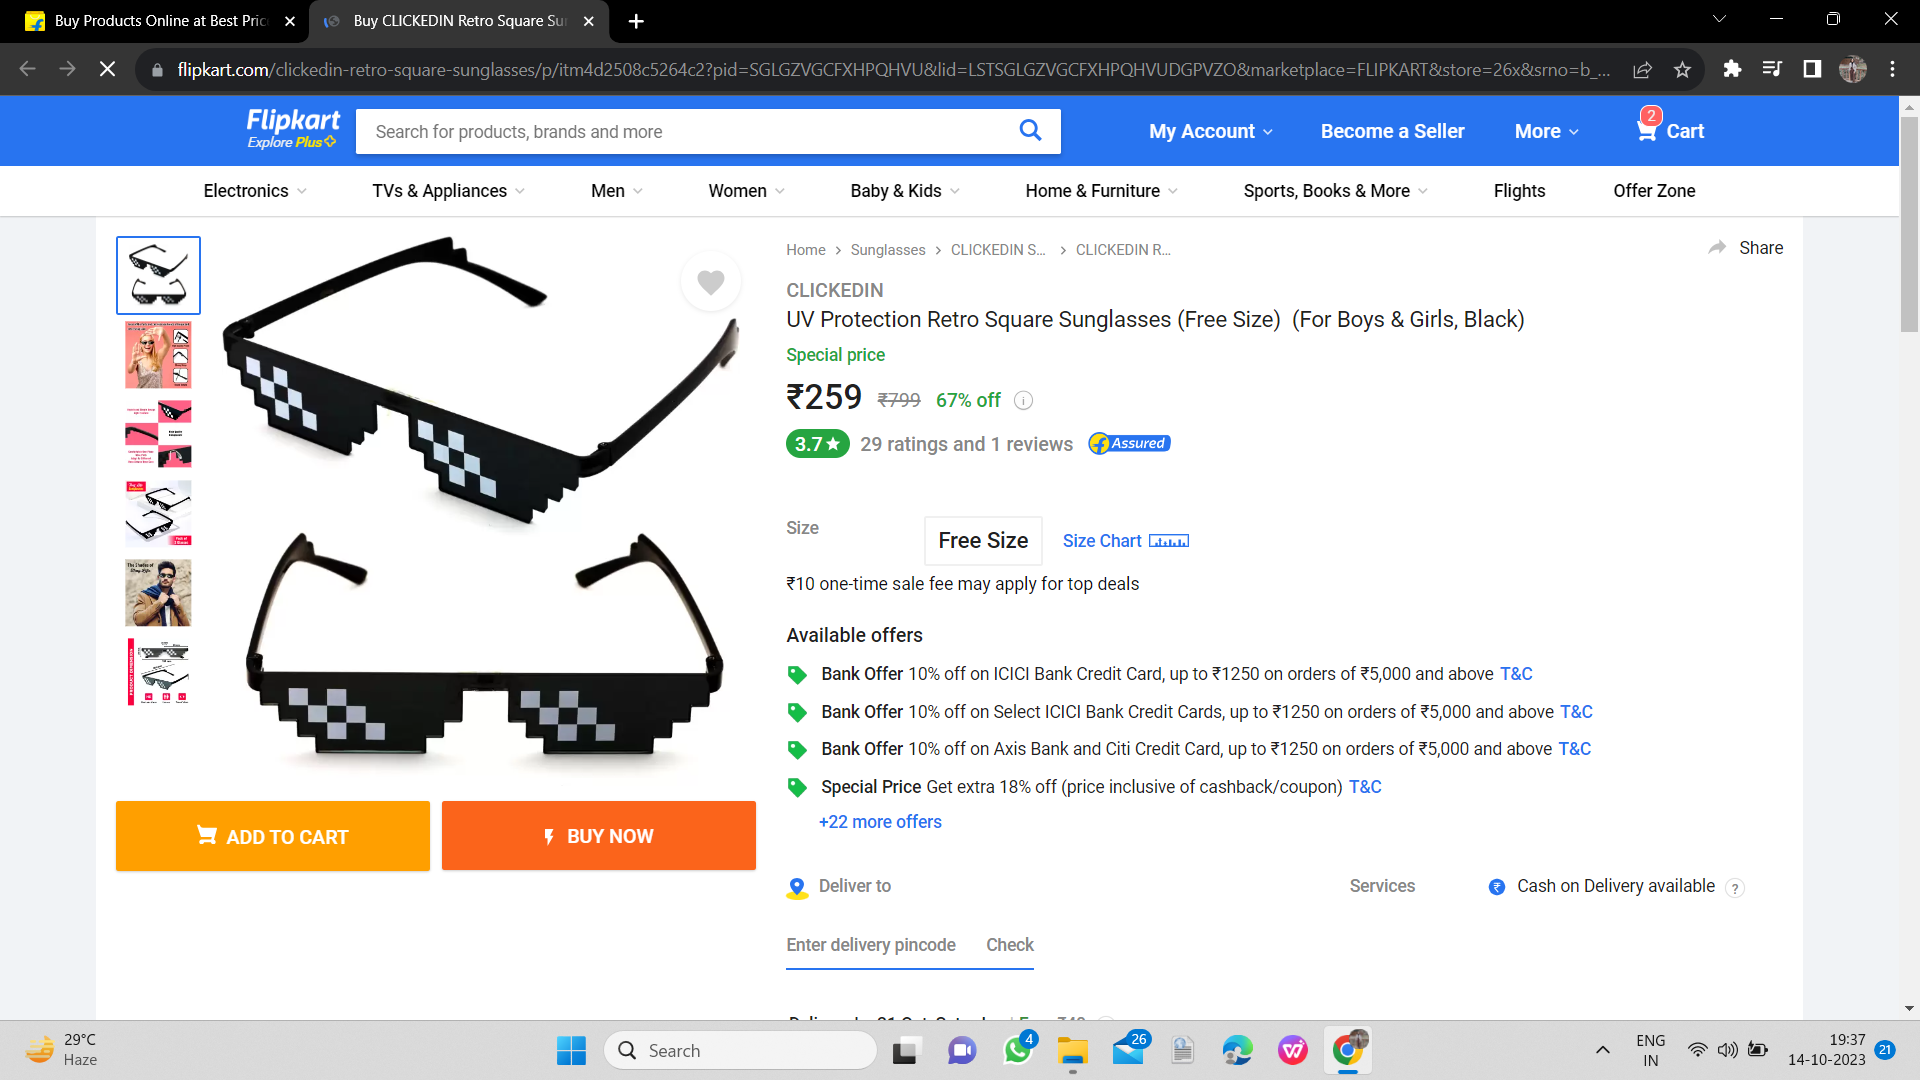Image: (210, 235, 749, 782)
Paragraph: (771, 662, 1636, 837), (109, 796, 766, 882), (778, 272, 1531, 338), (1126, 104, 1724, 154), (783, 873, 1038, 968), (775, 348, 1014, 421), (775, 427, 1193, 468), (914, 510, 1203, 564), (782, 568, 1159, 607), (1333, 872, 1724, 897), (778, 626, 935, 647), (779, 513, 833, 541)
